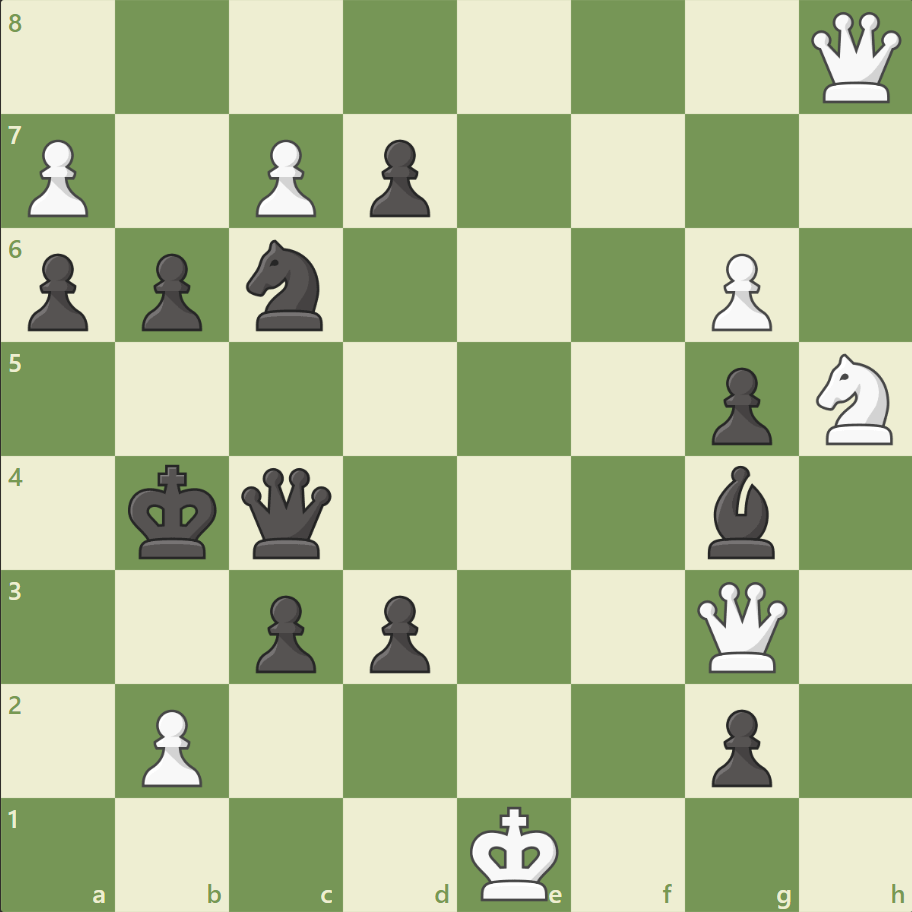K: (465, 798, 565, 906)
N: (806, 348, 903, 450)
P: (20, 132, 95, 223), (247, 132, 322, 223), (701, 246, 776, 337), (133, 700, 208, 791)
Q: (691, 576, 790, 676), (805, 9, 904, 108)
b: (698, 460, 782, 563)
k: (124, 458, 224, 566)
n: (238, 234, 335, 337)
p: (20, 246, 95, 337), (133, 246, 208, 337), (701, 359, 776, 450), (247, 586, 322, 677), (701, 700, 776, 791), (361, 132, 435, 223), (361, 586, 435, 677)
q: (237, 463, 336, 562)
